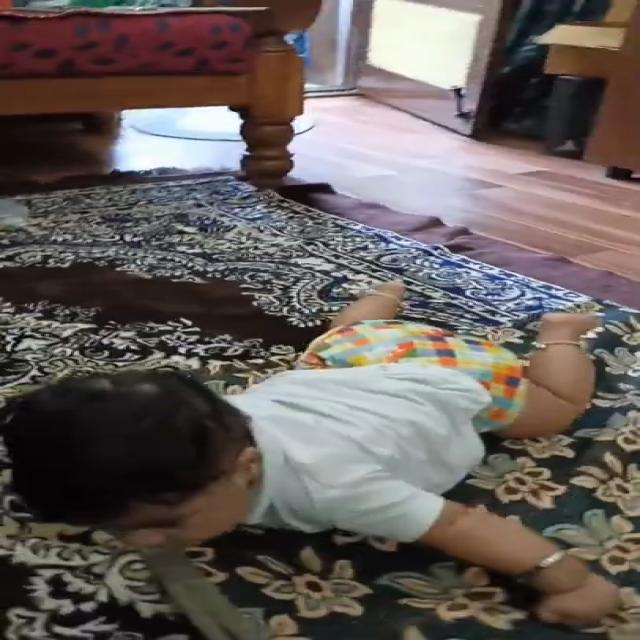baby: (0, 270, 624, 630)
